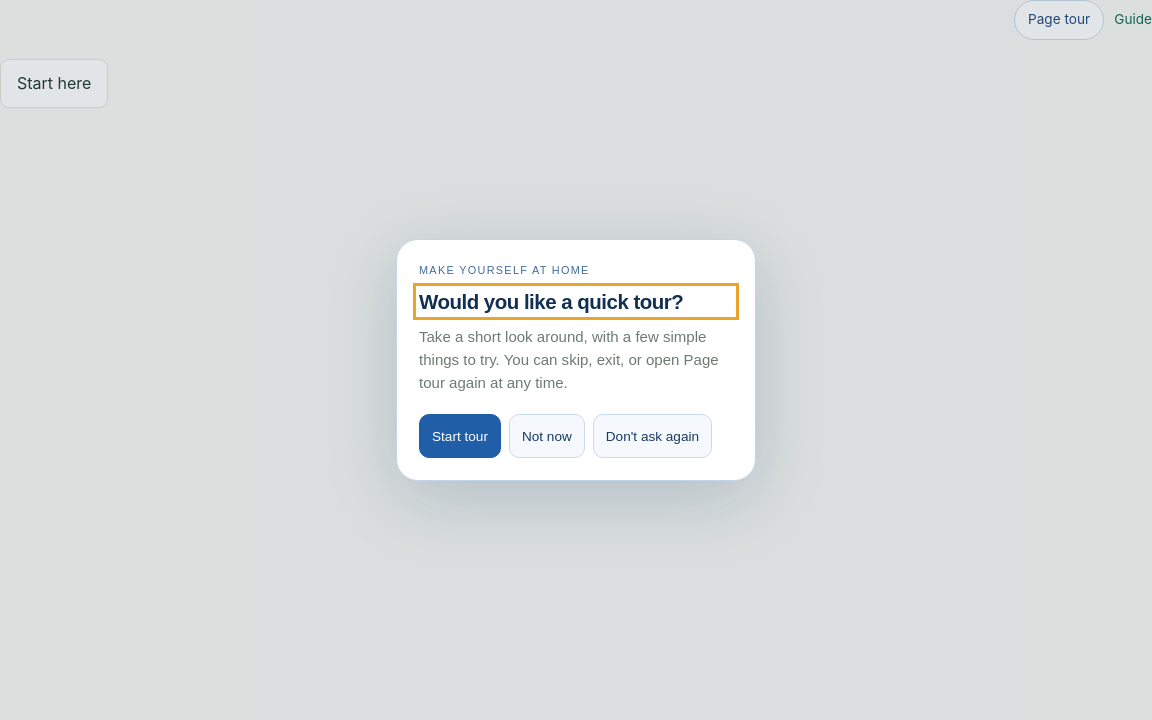
Test: starts from welcome, ignores nested modals, and exits on a route change
Click the button "Start tour": click(460, 436) [419,414,501,458]
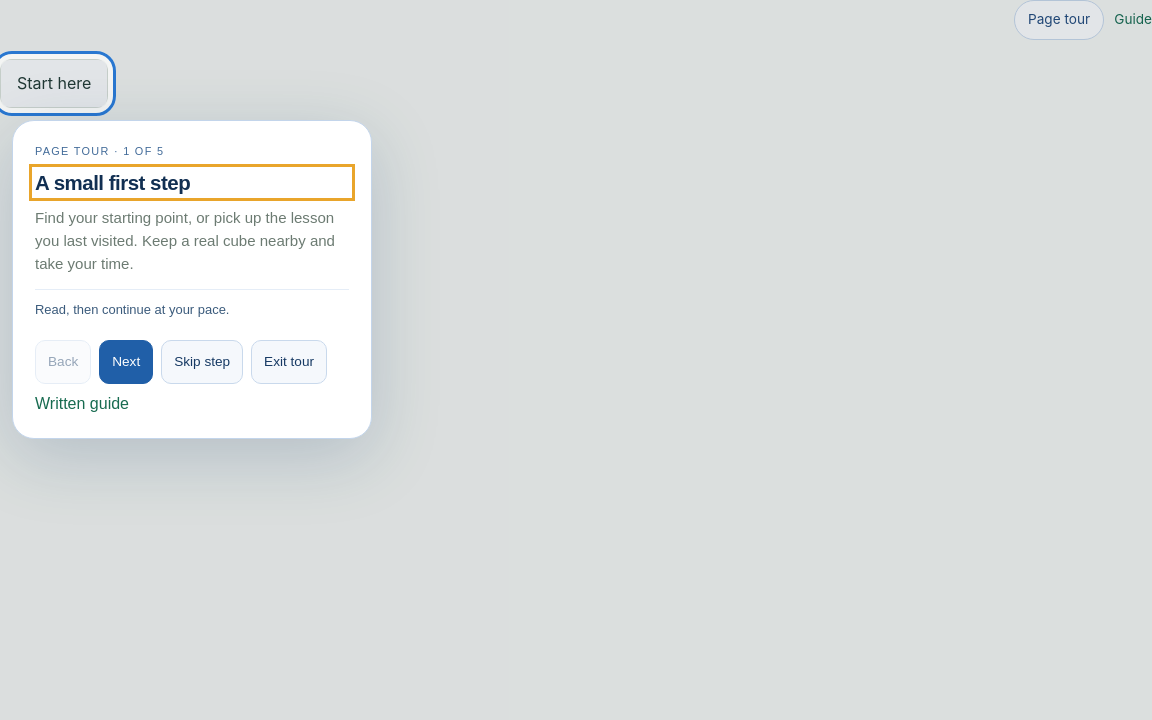
Result: the dialog "A small first step" is shown at [12,120,372,439]
